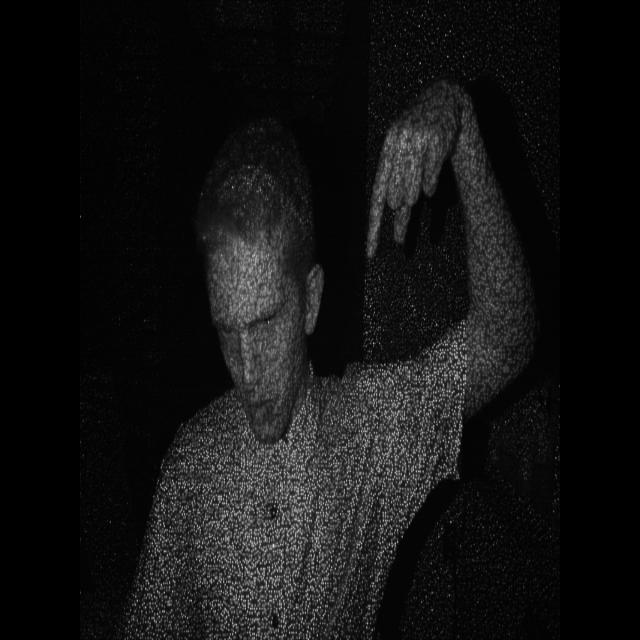Q: (360, 71, 497, 279)
